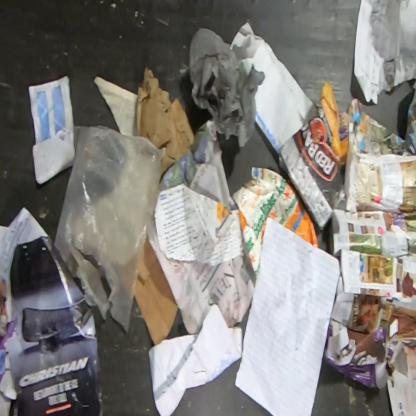cardboard: (233, 167, 320, 278), (136, 64, 194, 180), (134, 236, 180, 347)
soft_plastic: (52, 126, 168, 332), (189, 29, 264, 148)
